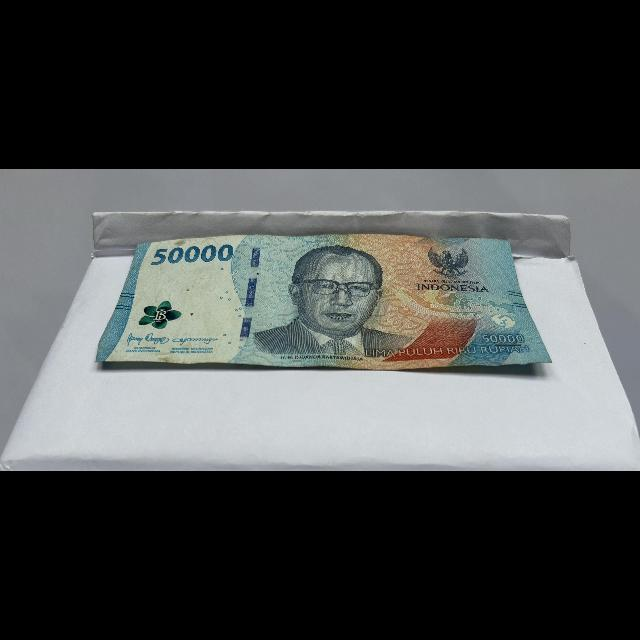Asli-50k: (89, 230, 557, 371)
Tinta-Asli-50k: (135, 300, 186, 330)
